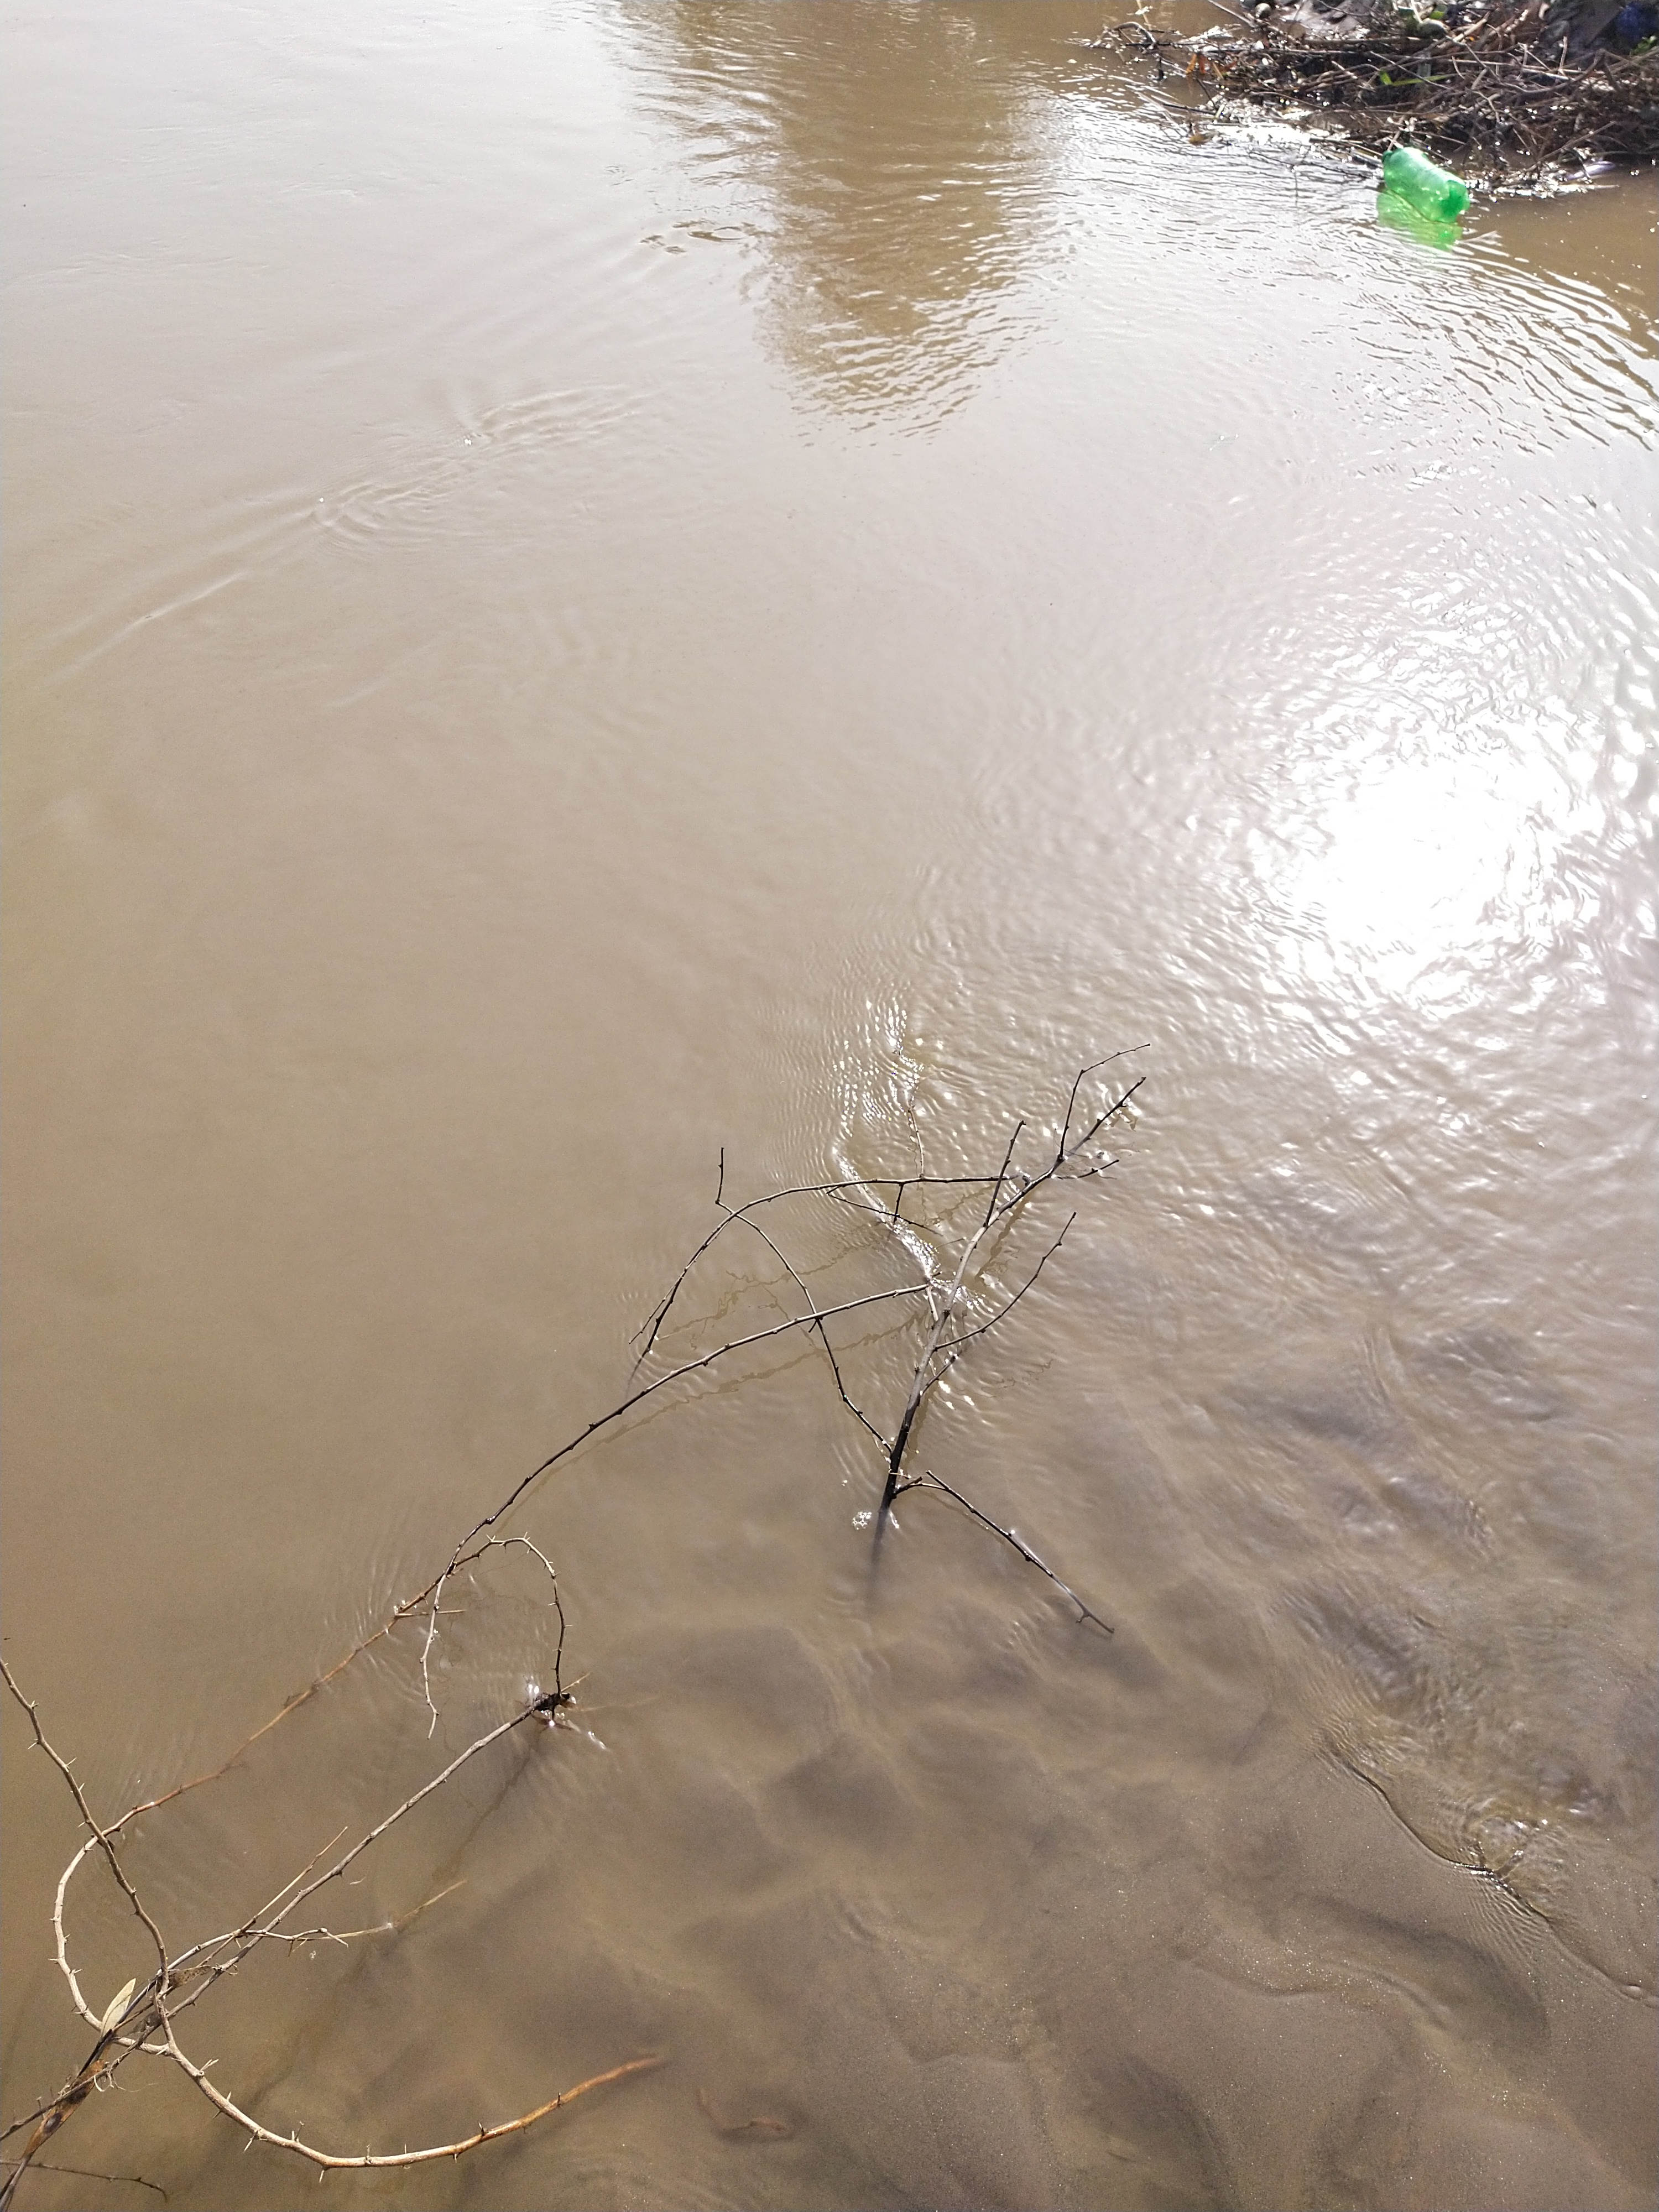Plastic Bottle: (1382, 146, 1469, 223)
